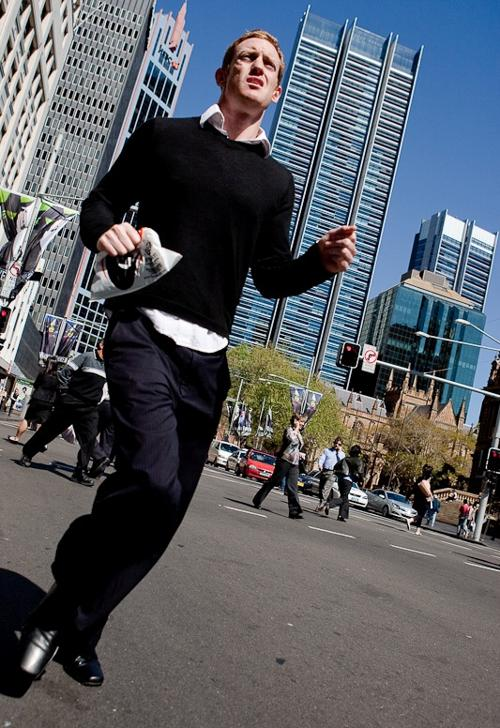person: (19, 25, 360, 690)
